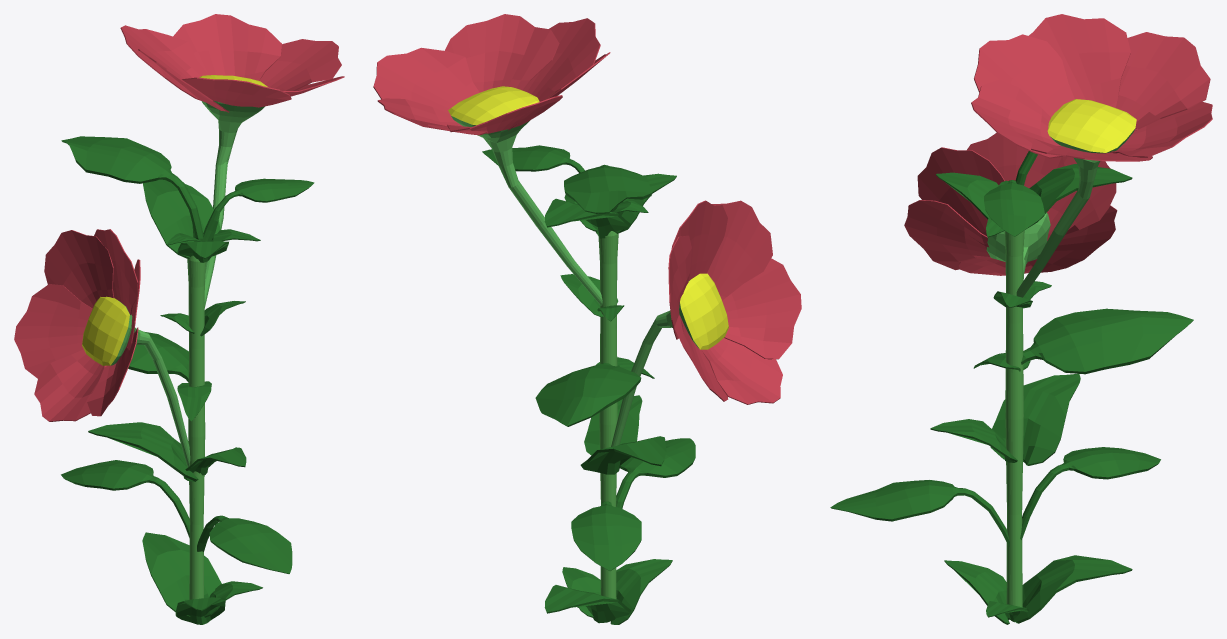
File: flor1.fbx
3 renders of one model, left to right at view 1: azimuth 30°, elevation 25°; view 2: azimuth 150°, elevation 25°; view 3: azimuth 270°, elevation 25°, orthographic. The views are drawn at different scales.
Parts seen in each view (by area): view 1: Cube.011, Cube.010, Plane.060, Cylinder.003, Plane.066, Plane.036, Plane.059, Plane.068, Plane.053, Plane.070, Plane.055, Plane.065 (+2 smaller); view 2: Cube.010, Cube.011, Plane.060, Plane.055, Cylinder.003, Plane.053, Plane.059, Plane.066, Plane.036, Plane.068, Plane.070, Plane.064 (+1 smaller); view 3: Cube.010, Cube.011, Plane.055, Cylinder.003, Plane.059, Plane.060, Plane.036, Plane.053, Plane.070, Plane.068, Plane.067.
Part boxes in pixels (x1,y1,x2,y2): Cube.011: [14, 229, 190, 467]; Cube.010: [120, 14, 344, 307]; Plane.060: [142, 532, 262, 624]; Cylinder.003: [187, 255, 205, 599]; Plane.066: [61, 136, 203, 241]; Plane.036: [197, 515, 292, 573]; Plane.059: [88, 422, 246, 481]; Plane.068: [143, 179, 220, 259]; Plane.053: [61, 460, 189, 537]; Plane.070: [203, 178, 314, 241]; Plane.055: [128, 332, 188, 382]; Plane.065: [177, 381, 211, 421]; Cube.010: [373, 14, 610, 305]; Cube.011: [611, 200, 801, 446]; Plane.060: [544, 559, 672, 624]; Plane.055: [535, 363, 641, 426]; Cylinder.003: [598, 231, 618, 598]; Plane.053: [571, 501, 641, 570]; Plane.059: [580, 395, 666, 474]; Plane.066: [564, 164, 651, 213]; Plane.036: [616, 438, 695, 508]; Plane.068: [544, 198, 631, 238]; Plane.070: [482, 145, 584, 173]; Plane.064: [560, 274, 618, 317]; Cube.010: [971, 14, 1212, 297]; Cube.011: [904, 132, 1117, 280]; Plane.055: [1021, 308, 1193, 374]; Cylinder.003: [1004, 230, 1024, 607]; Plane.059: [930, 373, 1080, 465]; Plane.060: [944, 555, 1132, 624]; Plane.036: [830, 480, 1009, 546]; Plane.053: [1020, 447, 1160, 539]; Plane.070: [984, 180, 1044, 236]; Plane.068: [1029, 164, 1132, 213]; Plane.067: [936, 172, 998, 219].
Bounding box in the file's own units: 1175 × 1868 × 1084.
Materials: 4 (2 with a texture image).
